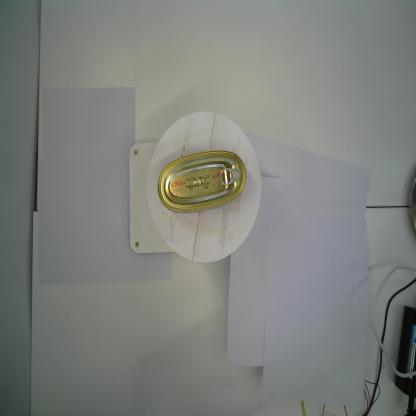Canned Food: (157, 149, 247, 214)
